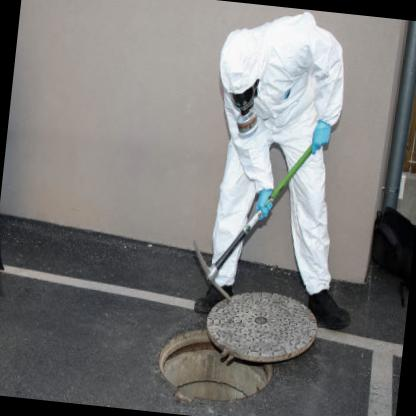manholes: (137, 259, 342, 416)
